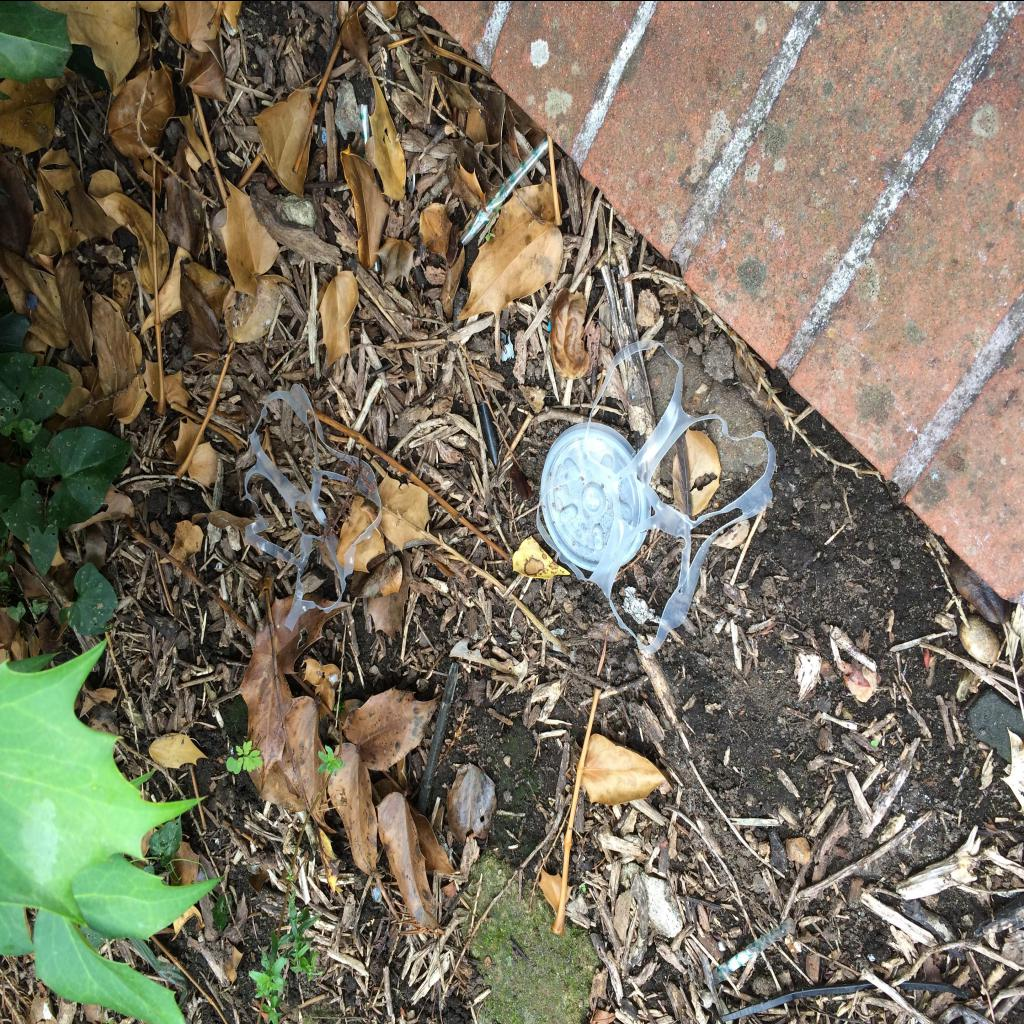Aluminium foil: (622, 586, 660, 624)
Plastic film: (460, 135, 548, 244), (712, 917, 795, 983), (360, 104, 370, 160)
Plastic lid: (541, 421, 651, 571)
Unlabeled litter: (416, 662, 458, 814), (477, 402, 499, 466)
